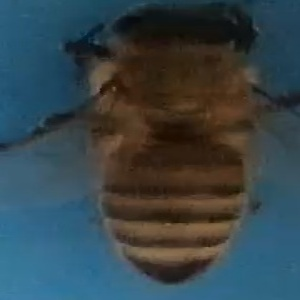bee: (3, 4, 298, 285)
